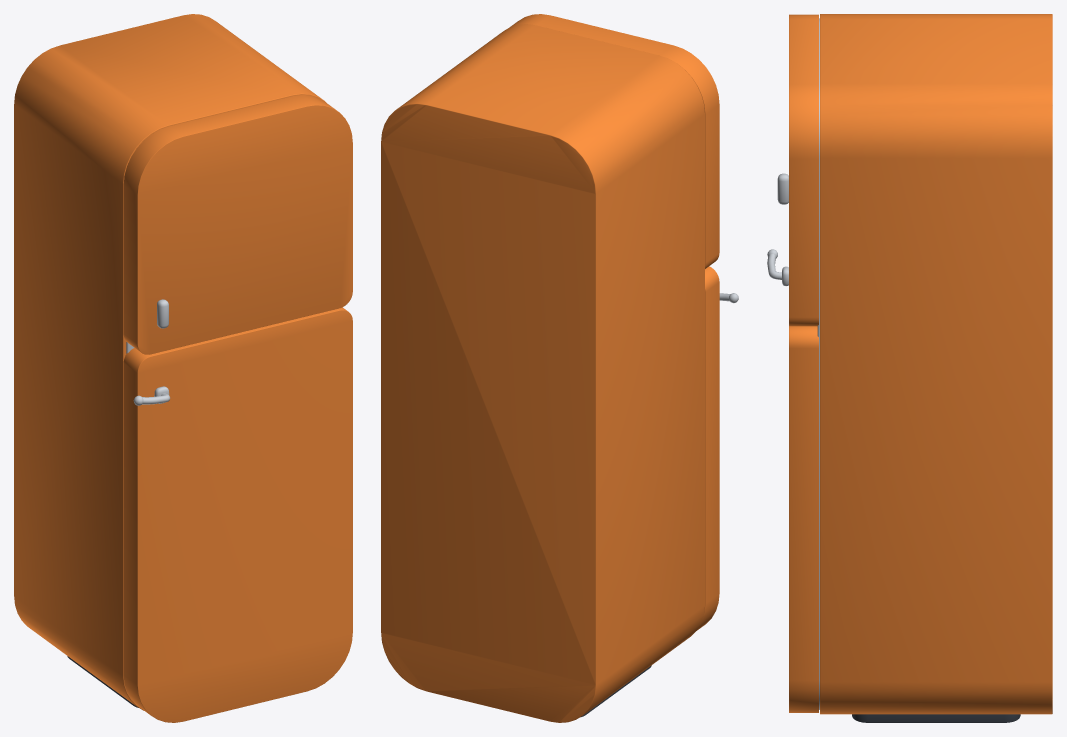
File: geladeira_retro_redonda_laranja.glb
The picture shows the model from 3 angles, left to right: view 1: azimuth 30°, elevation 25°; view 2: azimuth 150°, elevation 25°; view 3: azimuth 270°, elevation 25°; orthographic projection. The views are drawn at different scales.
Parts seen in each view (by area): view 1: porta_geladeira, geladeira_retro_redonda_laranja, porta_congelador; view 2: geladeira_retro_redonda_laranja, porta_congelador, porta_geladeira; view 3: geladeira_retro_redonda_laranja, porta_geladeira, porta_congelador.
Part boxes in pixels (x1,y1,x2,y2): porta_geladeira: (123, 307, 352, 722); geladeira_retro_redonda_laranja: (14, 14, 326, 710); porta_congelador: (123, 95, 352, 354); geladeira_retro_redonda_laranja: (381, 24, 704, 722); porta_congelador: (510, 14, 719, 268); porta_geladeira: (697, 266, 738, 630); geladeira_retro_redonda_laranja: (817, 14, 1052, 722); porta_geladeira: (767, 249, 818, 712); porta_congelador: (777, 14, 818, 326).
Size of the model in its own units: 0.6935 by 1.74 by 0.711.
1 material, 1 textured.
